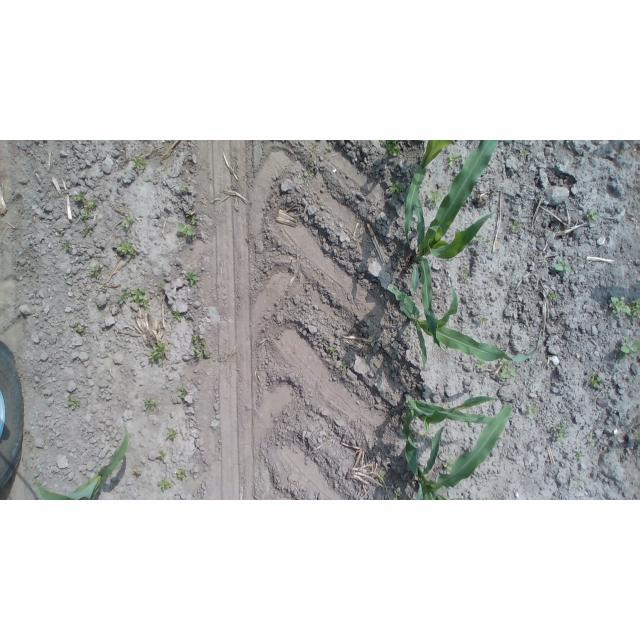Maize: (402, 142, 502, 356), (375, 255, 524, 370), (407, 401, 520, 500), (33, 420, 133, 500), (395, 391, 512, 441), (401, 141, 453, 240)
Weeds: (116, 287, 157, 312), (73, 191, 100, 224), (147, 337, 170, 368), (190, 333, 213, 363), (615, 337, 640, 364), (609, 294, 632, 320), (174, 221, 201, 242), (115, 239, 140, 259), (378, 141, 405, 159), (425, 184, 444, 208), (554, 255, 572, 280), (586, 369, 605, 391), (548, 420, 567, 442), (498, 361, 518, 381), (182, 266, 202, 286), (173, 466, 195, 482), (628, 294, 640, 322), (154, 448, 171, 466), (584, 209, 602, 225), (65, 394, 81, 412), (388, 180, 405, 196), (120, 217, 137, 233), (507, 219, 525, 234), (176, 386, 190, 405), (86, 262, 102, 278), (524, 403, 539, 420), (133, 154, 148, 170), (569, 445, 583, 462), (143, 394, 157, 411), (166, 426, 180, 443), (170, 307, 183, 325), (157, 477, 173, 491), (448, 151, 459, 171), (440, 459, 454, 473), (549, 291, 562, 306), (80, 224, 96, 236), (62, 239, 73, 256), (74, 323, 87, 337), (460, 266, 470, 284), (176, 186, 192, 197), (587, 431, 598, 446), (53, 226, 70, 235), (474, 361, 489, 371), (336, 358, 348, 369), (376, 471, 386, 483), (385, 408, 400, 416), (634, 424, 640, 442), (571, 474, 583, 483), (328, 344, 337, 354), (519, 148, 529, 157), (305, 155, 314, 165), (394, 490, 404, 498), (480, 317, 489, 325), (327, 146, 334, 154)
